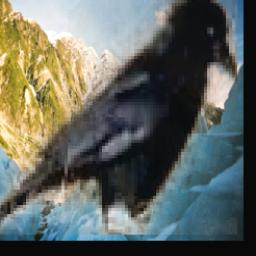Crow: (0, 0, 237, 235)
